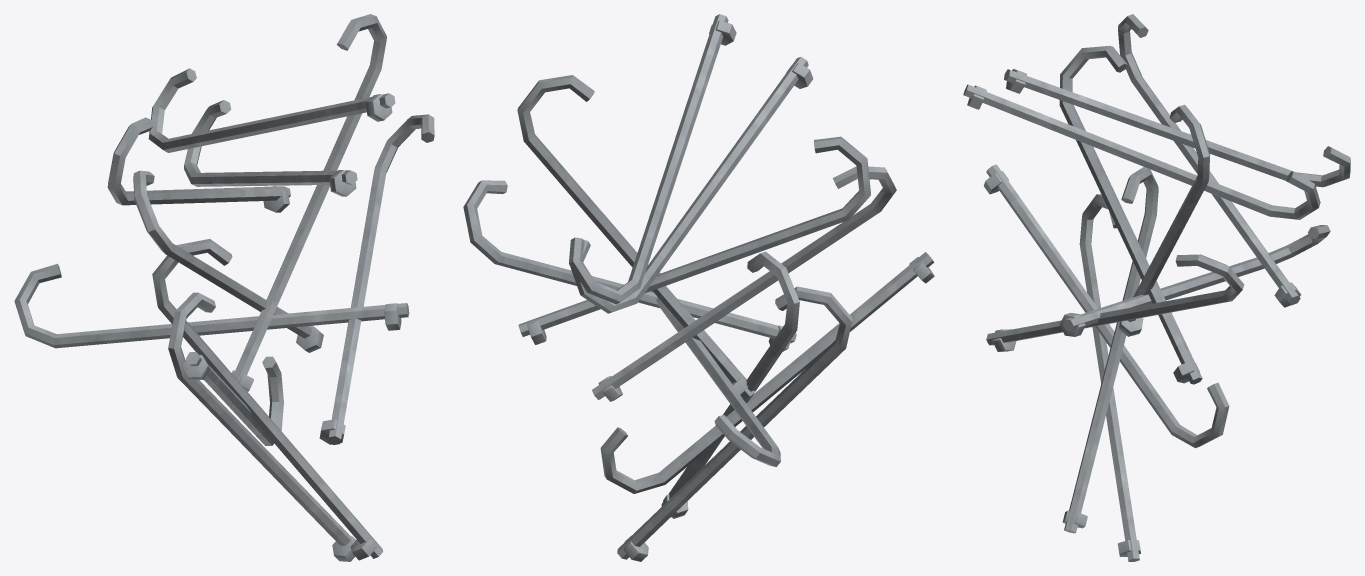
File: COB-ACS-003_anim.glb
3 renders of one model, left to right at view 1: azimuth 30°, elevation 25°; view 2: azimuth 150°, elevation 25°; view 3: azimuth 270°, elevation 25°, orthographic. The views are drawn at different scales.
Parts seen in each view (by area): view 1: COB-ACS-003_anim3, COB-ACS-003_anim1, COB-ACS-003_anim6, COB-ACS-003_anim0, COB-ACS-003_anim4, COB-ACS-003_anim9, COB-ACS-003_anim7, COB-ACS-003_anim8, COB-ACS-003_anim5, COB-ACS-003_anim2; view 2: COB-ACS-003_anim2, COB-ACS-003_anim9, COB-ACS-003_anim7, COB-ACS-003_anim0, COB-ACS-003_anim6, COB-ACS-003_anim5, COB-ACS-003_anim8, COB-ACS-003_anim4, COB-ACS-003_anim1, COB-ACS-003_anim3; view 3: COB-ACS-003_anim2, COB-ACS-003_anim8, COB-ACS-003_anim5, COB-ACS-003_anim1, COB-ACS-003_anim9, COB-ACS-003_anim0, COB-ACS-003_anim7, COB-ACS-003_anim4, COB-ACS-003_anim3, COB-ACS-003_anim6.
Boxes of the visible parts, <box> form: COB-ACS-003_anim3: <box>14,263,409,348</box>; COB-ACS-003_anim1: <box>152,239,383,560</box>; COB-ACS-003_anim6: <box>231,14,386,391</box>; COB-ACS-003_anim0: <box>168,292,355,561</box>; COB-ACS-003_anim4: <box>319,114,434,444</box>; COB-ACS-003_anim9: <box>148,68,395,152</box>; COB-ACS-003_anim7: <box>107,117,290,212</box>; COB-ACS-003_anim8: <box>184,100,357,196</box>; COB-ACS-003_anim5: <box>133,170,323,352</box>; COB-ACS-003_anim2: <box>182,352,283,446</box>; COB-ACS-003_anim2: <box>600,252,934,493</box>; COB-ACS-003_anim9: <box>569,14,736,304</box>; COB-ACS-003_anim7: <box>518,136,870,344</box>; COB-ACS-003_anim0: <box>617,286,852,561</box>; COB-ACS-003_anim6: <box>517,75,754,398</box>; COB-ACS-003_anim5: <box>592,166,896,401</box>; COB-ACS-003_anim8: <box>570,57,813,313</box>; COB-ACS-003_anim4: <box>463,180,796,351</box>; COB-ACS-003_anim1: <box>661,251,799,518</box>; COB-ACS-003_anim3: <box>650,272,780,466</box>; COB-ACS-003_anim2: <box>983,164,1229,448</box>; COB-ACS-003_anim8: <box>963,84,1320,219</box>; COB-ACS-003_anim5: <box>1059,45,1202,384</box>; COB-ACS-003_anim1: <box>1062,167,1158,533</box>; COB-ACS-003_anim9: <box>1004,69,1350,187</box>; COB-ACS-003_anim0: <box>1079,194,1140,561</box>; COB-ACS-003_anim7: <box>1118,14,1301,307</box>; COB-ACS-003_anim4: <box>986,254,1244,351</box>; COB-ACS-003_anim3: <box>1059,225,1330,336</box>; COB-ACS-003_anim6: <box>1118,105,1210,336</box>.
Size of the model in its own units: 0.235 by 0.3198 by 0.234.
1 material, 1 textured.
